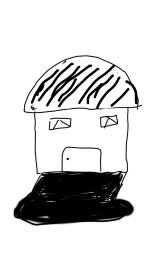door: (59, 139, 107, 176)
open_window: (44, 114, 74, 135), (98, 112, 123, 130)
roof: (17, 46, 143, 114)
shadow: (9, 168, 139, 232)
wall: (30, 103, 136, 177)
